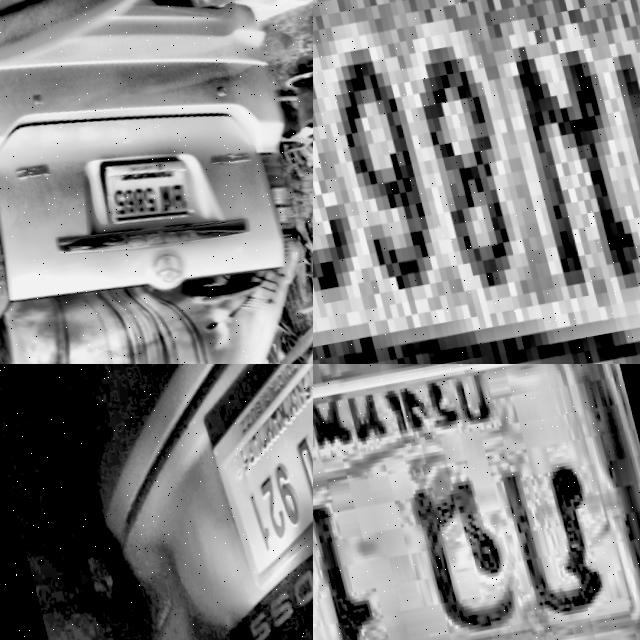license-plate: (313, 0, 640, 364), (313, 364, 640, 640), (173, 364, 313, 600), (85, 142, 195, 240)
